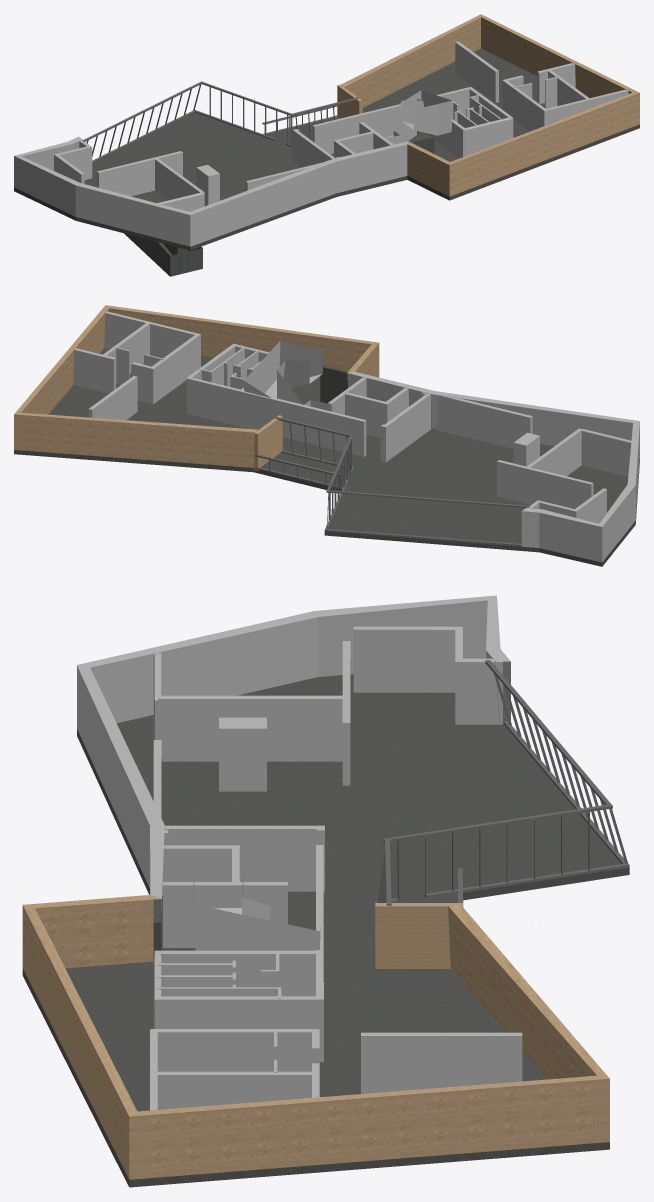
Rendered from gallery-4f-transformed.glb.
3 renders of one model, top to bottom at view 1: azimuth 30°, elevation 25°; view 2: azimuth 150°, elevation 25°; view 3: azimuth 270°, elevation 25°, orthographic. The views are drawn at different scales.
Visible parts, largest first — view 1: outside_wall, floor, wall.035, stairs4t5, wall.016, stairs3t4, wall.005, wall.009, wall.007, wall.017, wall.011, wall.002 (+13 smaller); view 2: outside_wall, floor, wall.035, stairs4t5, wall.033, wall.016, wall.011, wall.002, wall.009, wall.003, wall.031, wall.017 (+15 smaller); view 3: outside_wall, floor, wall.017, wall.005, wall.019, wall.009, wall.002, wall.012, wall.010, wall.004, stairs4t5, wall.001 (+13 smaller).
Boxes of the visible parts, <box> form: outside_wall: <box>14,14,639,246</box>; floor: <box>14,48,639,250</box>; wall.035: <box>312,87,471,154</box>; stairs4t5: <box>385,90,451,144</box>; wall.016: <box>97,151,182,196</box>; stairs3t4: <box>124,233,202,276</box>; wall.005: <box>455,41,498,102</box>; wall.009: <box>502,79,545,131</box>; wall.007: <box>463,117,512,156</box>; wall.017: <box>155,158,204,200</box>; wall.011: <box>543,89,628,125</box>; wall.002: <box>292,130,335,167</box>; outside_wall: <box>14,305,639,562</box>; floor: <box>14,348,639,566</box>; wall.035: <box>186,377,366,456</box>; stairs4t5: <box>244,340,327,410</box>; wall.033: <box>436,395,532,448</box>; wall.016: <box>497,460,593,508</box>; wall.011: <box>104,311,200,367</box>; wall.002: <box>382,393,430,462</box>; wall.009: <box>150,333,200,403</box>; wall.003: <box>581,429,631,476</box>; wall.031: <box>73,348,115,393</box>; wall.017: <box>527,428,582,476</box>; outside_wall: <box>22,595,609,1179</box>; floor: <box>22,674,629,1187</box>; wall.017: <box>157,695,343,761</box>; wall.005: <box>361,1032,522,1093</box>; wall.019: <box>353,626,462,692</box>; wall.009: <box>151,1029,317,1071</box>; wall.002: <box>164,825,324,891</box>; wall.012: <box>154,996,321,1062</box>; wall.010: <box>151,1071,317,1109</box>; wall.004: <box>375,903,463,968</box>; stairs4t5: <box>193,869,320,950</box>; wall.001: <box>163,882,287,947</box>.
Size of the model in its own units: 41.6 by 7.38 by 20.53.
Materials: 4 (2 with a texture image).
